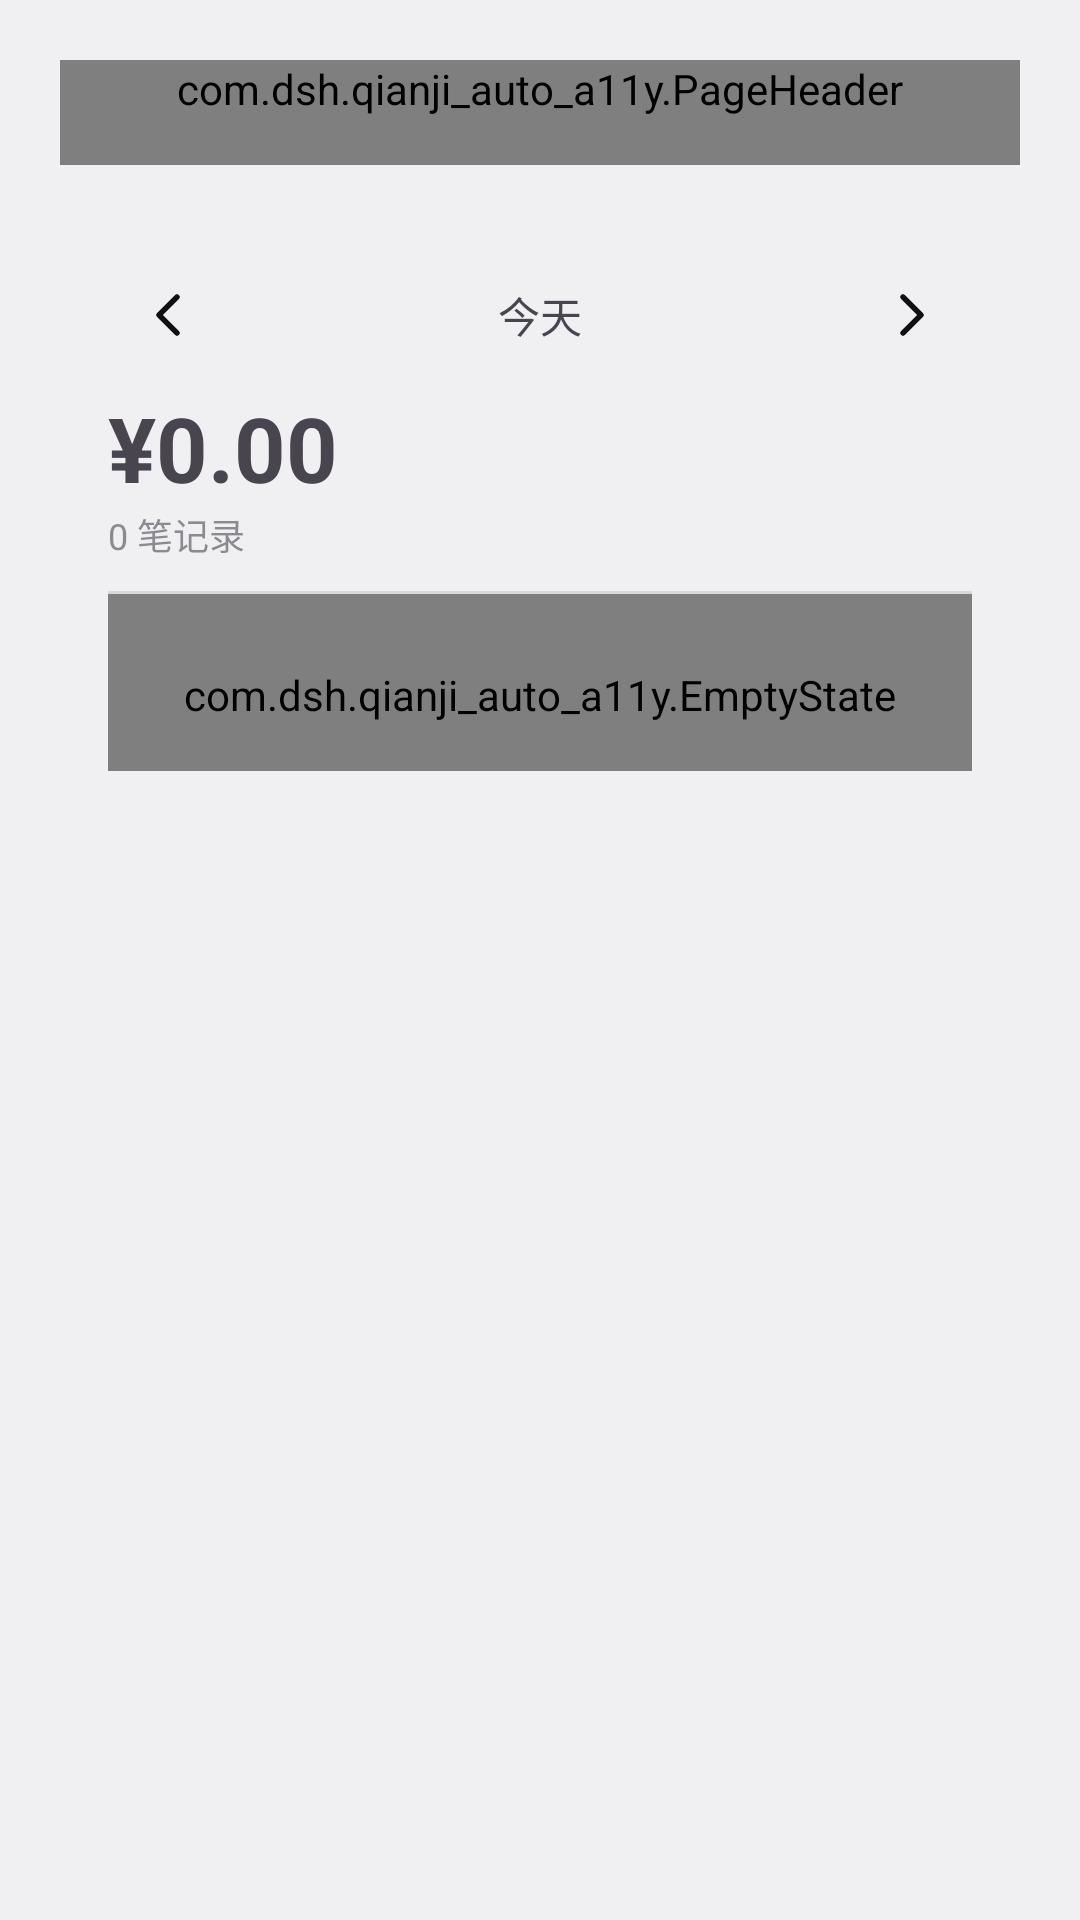

Where to tap for icons on this 1080w x 1920h app screen, as [x,y]:
前一天: [168,315]
后一天: [912,315]
